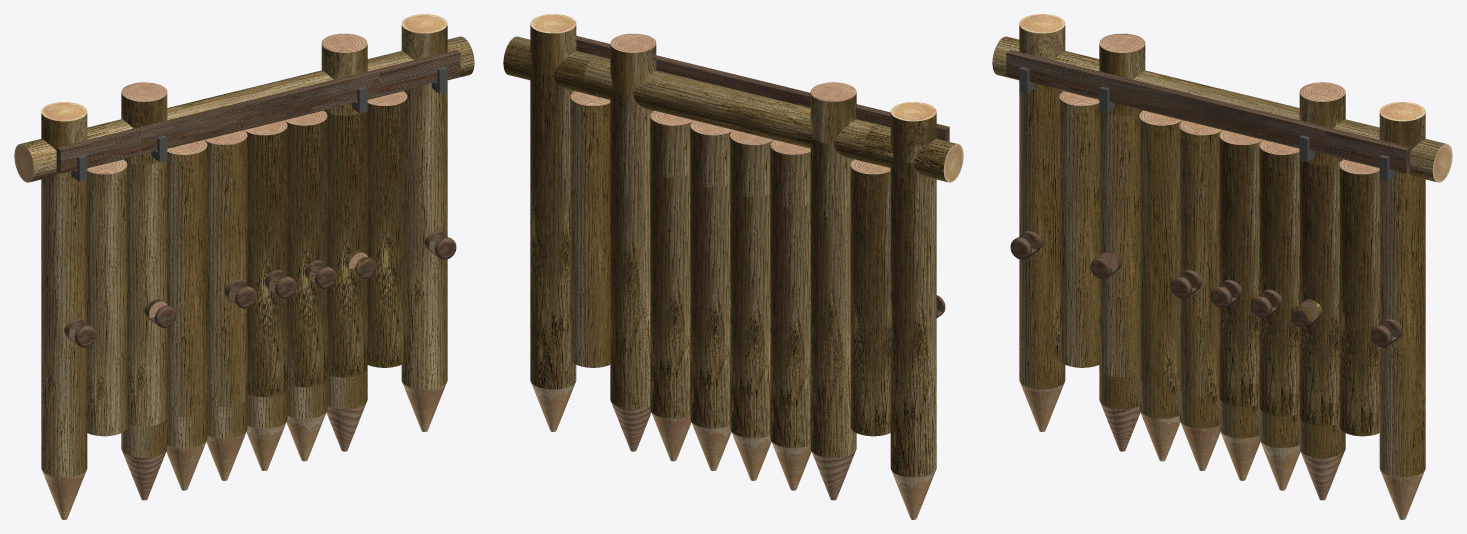
File: Texture벽건축물.fbx
The picture shows the model from 3 angles, left to right: view 1: azimuth 30°, elevation 25°; view 2: azimuth 150°, elevation 25°; view 3: azimuth 330°, elevation 25°; orthographic projection.
Parts seen in each view (by area): view 1: Right Door, Double Door Frame, Left Door, Door, Door Frame, Wooden Barrier, Door Lock Bar, Double Door Lock Bar, Door Handle, Right Door Handle, Left Door Handle; view 2: Wooden Barrier, Double Door Frame, Door Frame, Left Door, Right Door, Door, Double Door Lock Bar, Door Lock Bar; view 3: Right Door, Double Door Frame, Left Door, Door, Door Frame, Wooden Barrier, Double Door Lock Bar, Door Lock Bar, Door Handle, Left Door Handle, Right Door Handle.
Part boxes in pixels (x1,y1,x2,y2): Right Door: [245, 91, 407, 397]; Double Door Frame: [14, 14, 474, 519]; Left Door: [87, 130, 246, 436]; Door: [167, 111, 327, 416]; Door Frame: [104, 33, 389, 500]; Wooden Barrier: [121, 205, 367, 490]; Door Lock Bar: [140, 71, 379, 153]; Double Door Lock Bar: [56, 50, 460, 173]; Door Handle: [304, 260, 336, 288]; Right Door Handle: [264, 270, 296, 298]; Left Door Handle: [224, 279, 256, 308]; Wooden Barrier: [610, 161, 856, 490]; Double Door Frame: [503, 14, 963, 519]; Door Frame: [583, 33, 875, 500]; Left Door: [731, 130, 890, 436]; Right Door: [570, 91, 731, 367]; Door: [650, 110, 810, 404]; Double Door Lock Bar: [576, 35, 949, 141]; Door Lock Bar: [656, 55, 868, 120]; Right Door: [1219, 131, 1379, 436]; Double Door Frame: [992, 14, 1452, 519]; Left Door: [1059, 91, 1221, 397]; Door: [1139, 110, 1299, 396]; Door Frame: [1076, 33, 1365, 500]; Wooden Barrier: [1099, 180, 1345, 490]; Double Door Lock Bar: [1006, 50, 1410, 173]; Door Lock Bar: [1087, 71, 1326, 153]; Door Handle: [1250, 289, 1282, 318]; Left Door Handle: [1170, 270, 1202, 298]; Right Door Handle: [1210, 279, 1242, 308].
Bounding box in the file's own units: 2200 × 1943 × 300.
4 materials, 4 textured.
